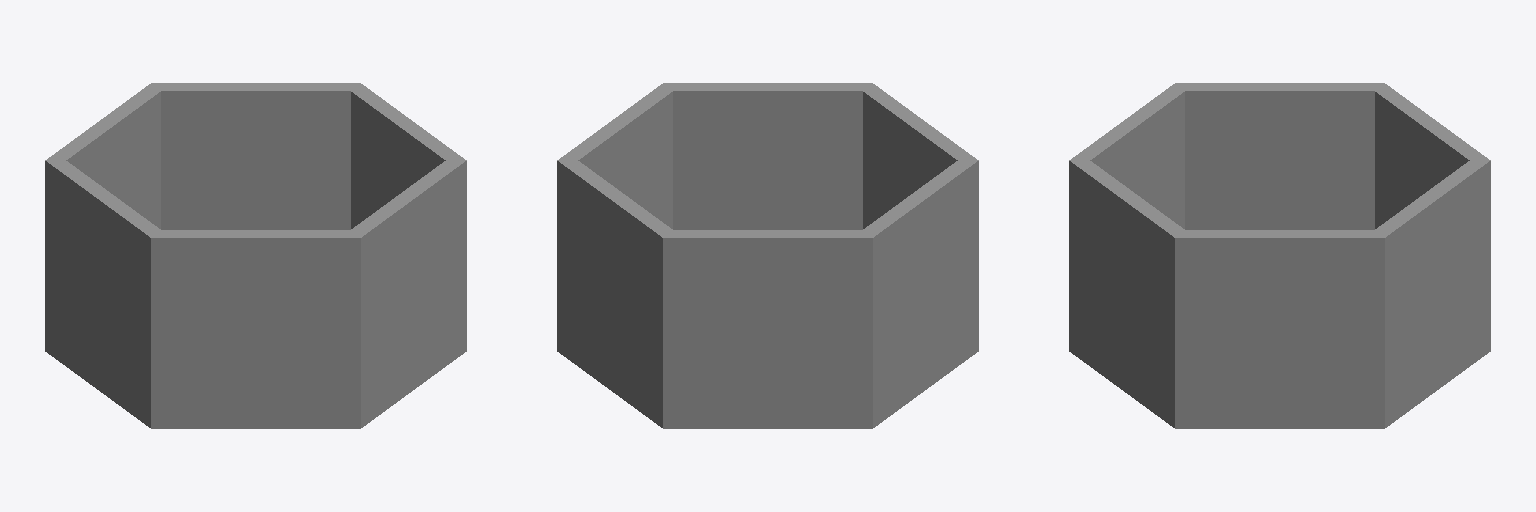
The model's file is gate3.obj.
3 views of the same model, side by side, from view 1: azimuth 30°, elevation 25°; view 2: azimuth 150°, elevation 25°; view 3: azimuth 270°, elevation 25° (orthographic).
Visible parts, largest first — view 1: Cylinder; view 2: Cylinder; view 3: Cylinder.
Part boxes in pixels (x1,y1,x2,y2): Cylinder: (45, 83, 466, 428); Cylinder: (557, 83, 978, 428); Cylinder: (1069, 83, 1490, 428).
Size of the model in its own units: 1.73 by 1 by 2.